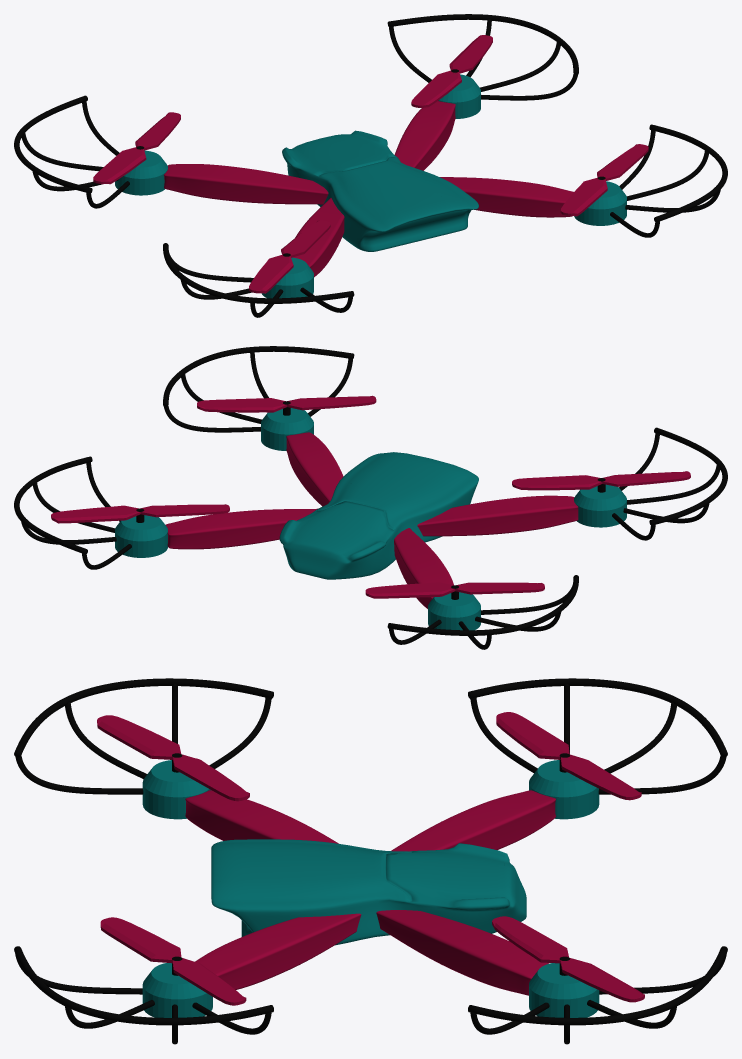
The model's file is rotation sıfırlama.fbx.
3 renders of one model, top to bottom at view 1: azimuth 30°, elevation 25°; view 2: azimuth 150°, elevation 25°; view 3: azimuth 270°, elevation 25°, orthographic. The views are drawn at different scales.
Visible parts, largest first — view 1: NurbsPath.003, 3, 2, 1, 4; view 2: NurbsPath.003, 2, 3, 1, 4; view 3: NurbsPath.003, 4, 1, 2, 3.
Boxes of the visible parts, <box> form: NurbsPath.003: <box>14,14,727,317</box>; 3: <box>93,112,180,184</box>; 2: <box>411,35,492,107</box>; 1: <box>560,144,648,216</box>; 4: <box>249,220,330,293</box>; NurbsPath.003: <box>14,346,727,649</box>; 2: <box>51,504,229,523</box>; 3: <box>365,582,544,598</box>; 1: <box>197,395,376,412</box>; 4: <box>512,471,690,490</box>; NurbsPath.003: <box>14,678,727,1044</box>; 4: <box>97,715,249,801</box>; 1: <box>100,917,246,1005</box>; 2: <box>492,916,644,1002</box>; 3: <box>496,712,641,800</box>.
Bounding box in the file's own units: 503 × 46.77 × 443.
Materials: 1 (1 with a texture image).
